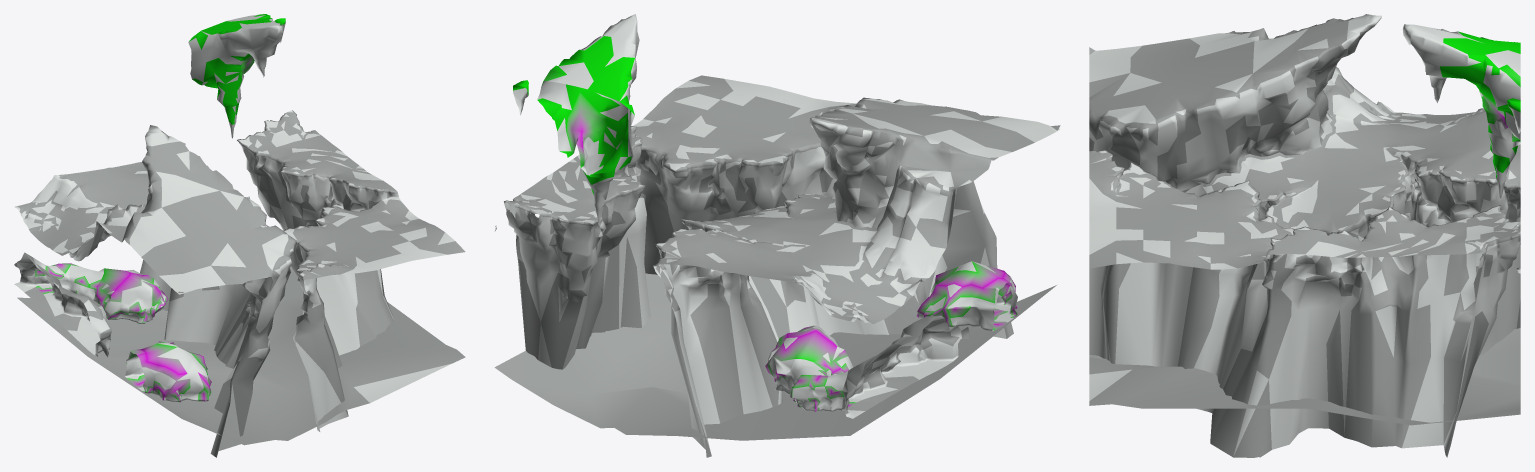
The picture shows the model from 3 angles, left to right: view 1: azimuth 30°, elevation 25°; view 2: azimuth 150°, elevation 25°; view 3: azimuth 270°, elevation 25°; orthographic projection. The views are drawn at different scales.
Visible parts, largest first — view 1: G:\FFXIV-MapTools\exports\f1f1\bg\ffxiv\fst_f1\fld\f1f1\bgpl (×20); view 2: G:\FFXIV-MapTools\exports\f1f1\bg\ffxiv\fst_f1\fld\f1f1\bgpl (×25); view 3: G:\FFXIV-MapTools\exports\f1f1\bg\ffxiv\fst_f1\fld\f1f1\bgpl (×21).
Boxes of the visible parts, bbox=[...] form: G:\FFXIV-MapTools\exports\f1f1\bg\ffxiv\fst_f1\fld\f1f1\bgpl (×20): bbox=[14, 14, 465, 457]; G:\FFXIV-MapTools\exports\f1f1\bg\ffxiv\fst_f1\fld\f1f1\bgpl (×25): bbox=[494, 14, 1060, 457]; G:\FFXIV-MapTools\exports\f1f1\bg\ffxiv\fst_f1\fld\f1f1\bgpl (×21): bbox=[1089, 14, 1520, 457].
Size of the model in its own units: 128 by 131 by 128.
